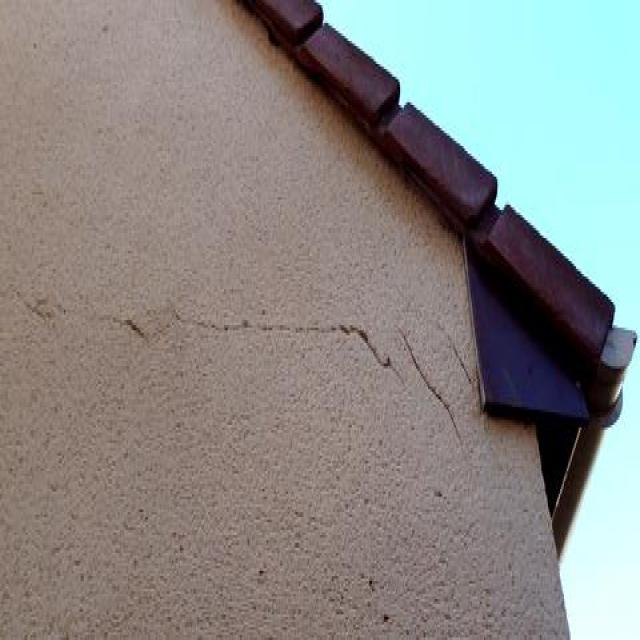crack: (175, 311, 407, 383), (403, 328, 468, 456), (99, 310, 147, 342)
